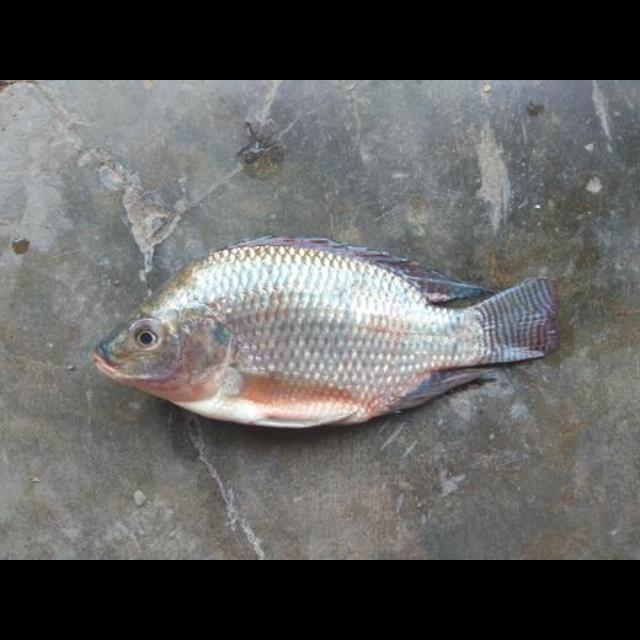Tilapia: (90, 237, 562, 428)
